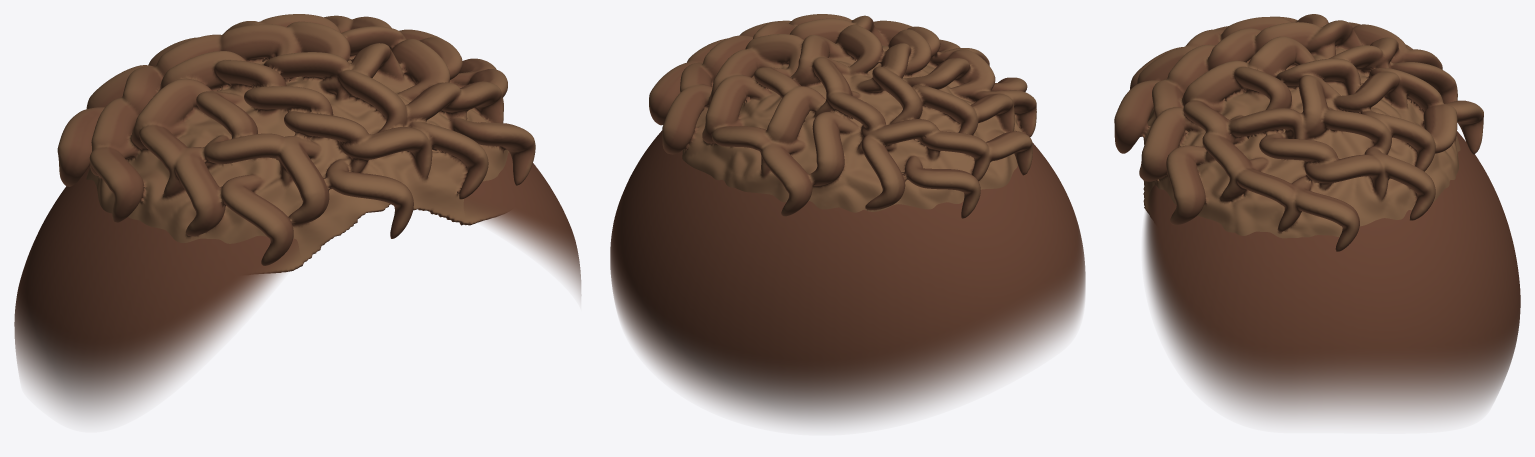
Rendered from Highlights-788f91ea5d20252-hair.glb.
3 renders of one model, left to right at view 1: azimuth 30°, elevation 25°; view 2: azimuth 150°, elevation 25°; view 3: azimuth 270°, elevation 25°, orthographic. The views are drawn at different scales.
Parts seen in each view (by area): view 1: 226 hair / Hair252 / sculpted curl groups, 226 hair / Hair252 / curly close fade coverage; view 2: 226 hair / Hair252 / curly close fade coverage, 226 hair / Hair252 / sculpted curl groups; view 3: 226 hair / Hair252 / curly close fade coverage, 226 hair / Hair252 / sculpted curl groups.
Part boxes in pixels (x1,y1,x2,y2): 226 hair / Hair252 / sculpted curl groups: (57,14,535,273); 226 hair / Hair252 / curly close fade coverage: (14,152,580,418); 226 hair / Hair252 / curly close fade coverage: (610,130,1085,425); 226 hair / Hair252 / sculpted curl groups: (649,14,1036,218); 226 hair / Hair252 / curly close fade coverage: (1143,131,1520,420); 226 hair / Hair252 / sculpted curl groups: (1114,14,1483,251).
Bounding box in the file's own units: 0.976 × 0.7233 × 0.762.
2 materials, 2 textured.
